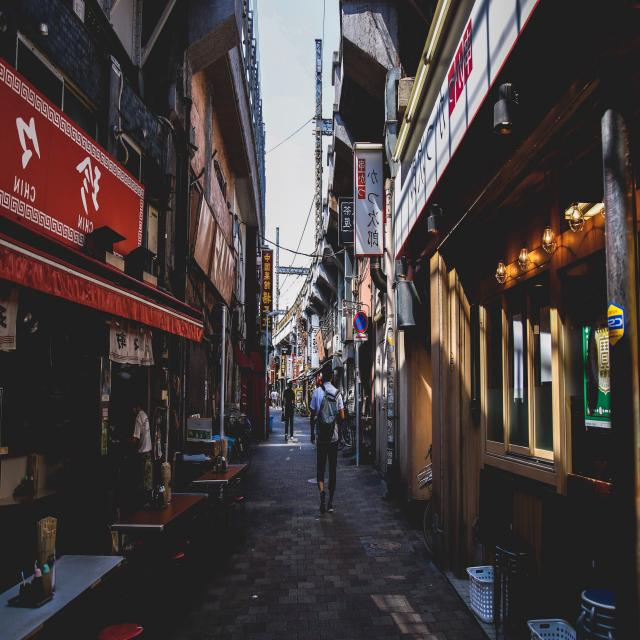adult: (309, 362, 347, 520), (127, 400, 152, 454), (280, 378, 297, 445)
